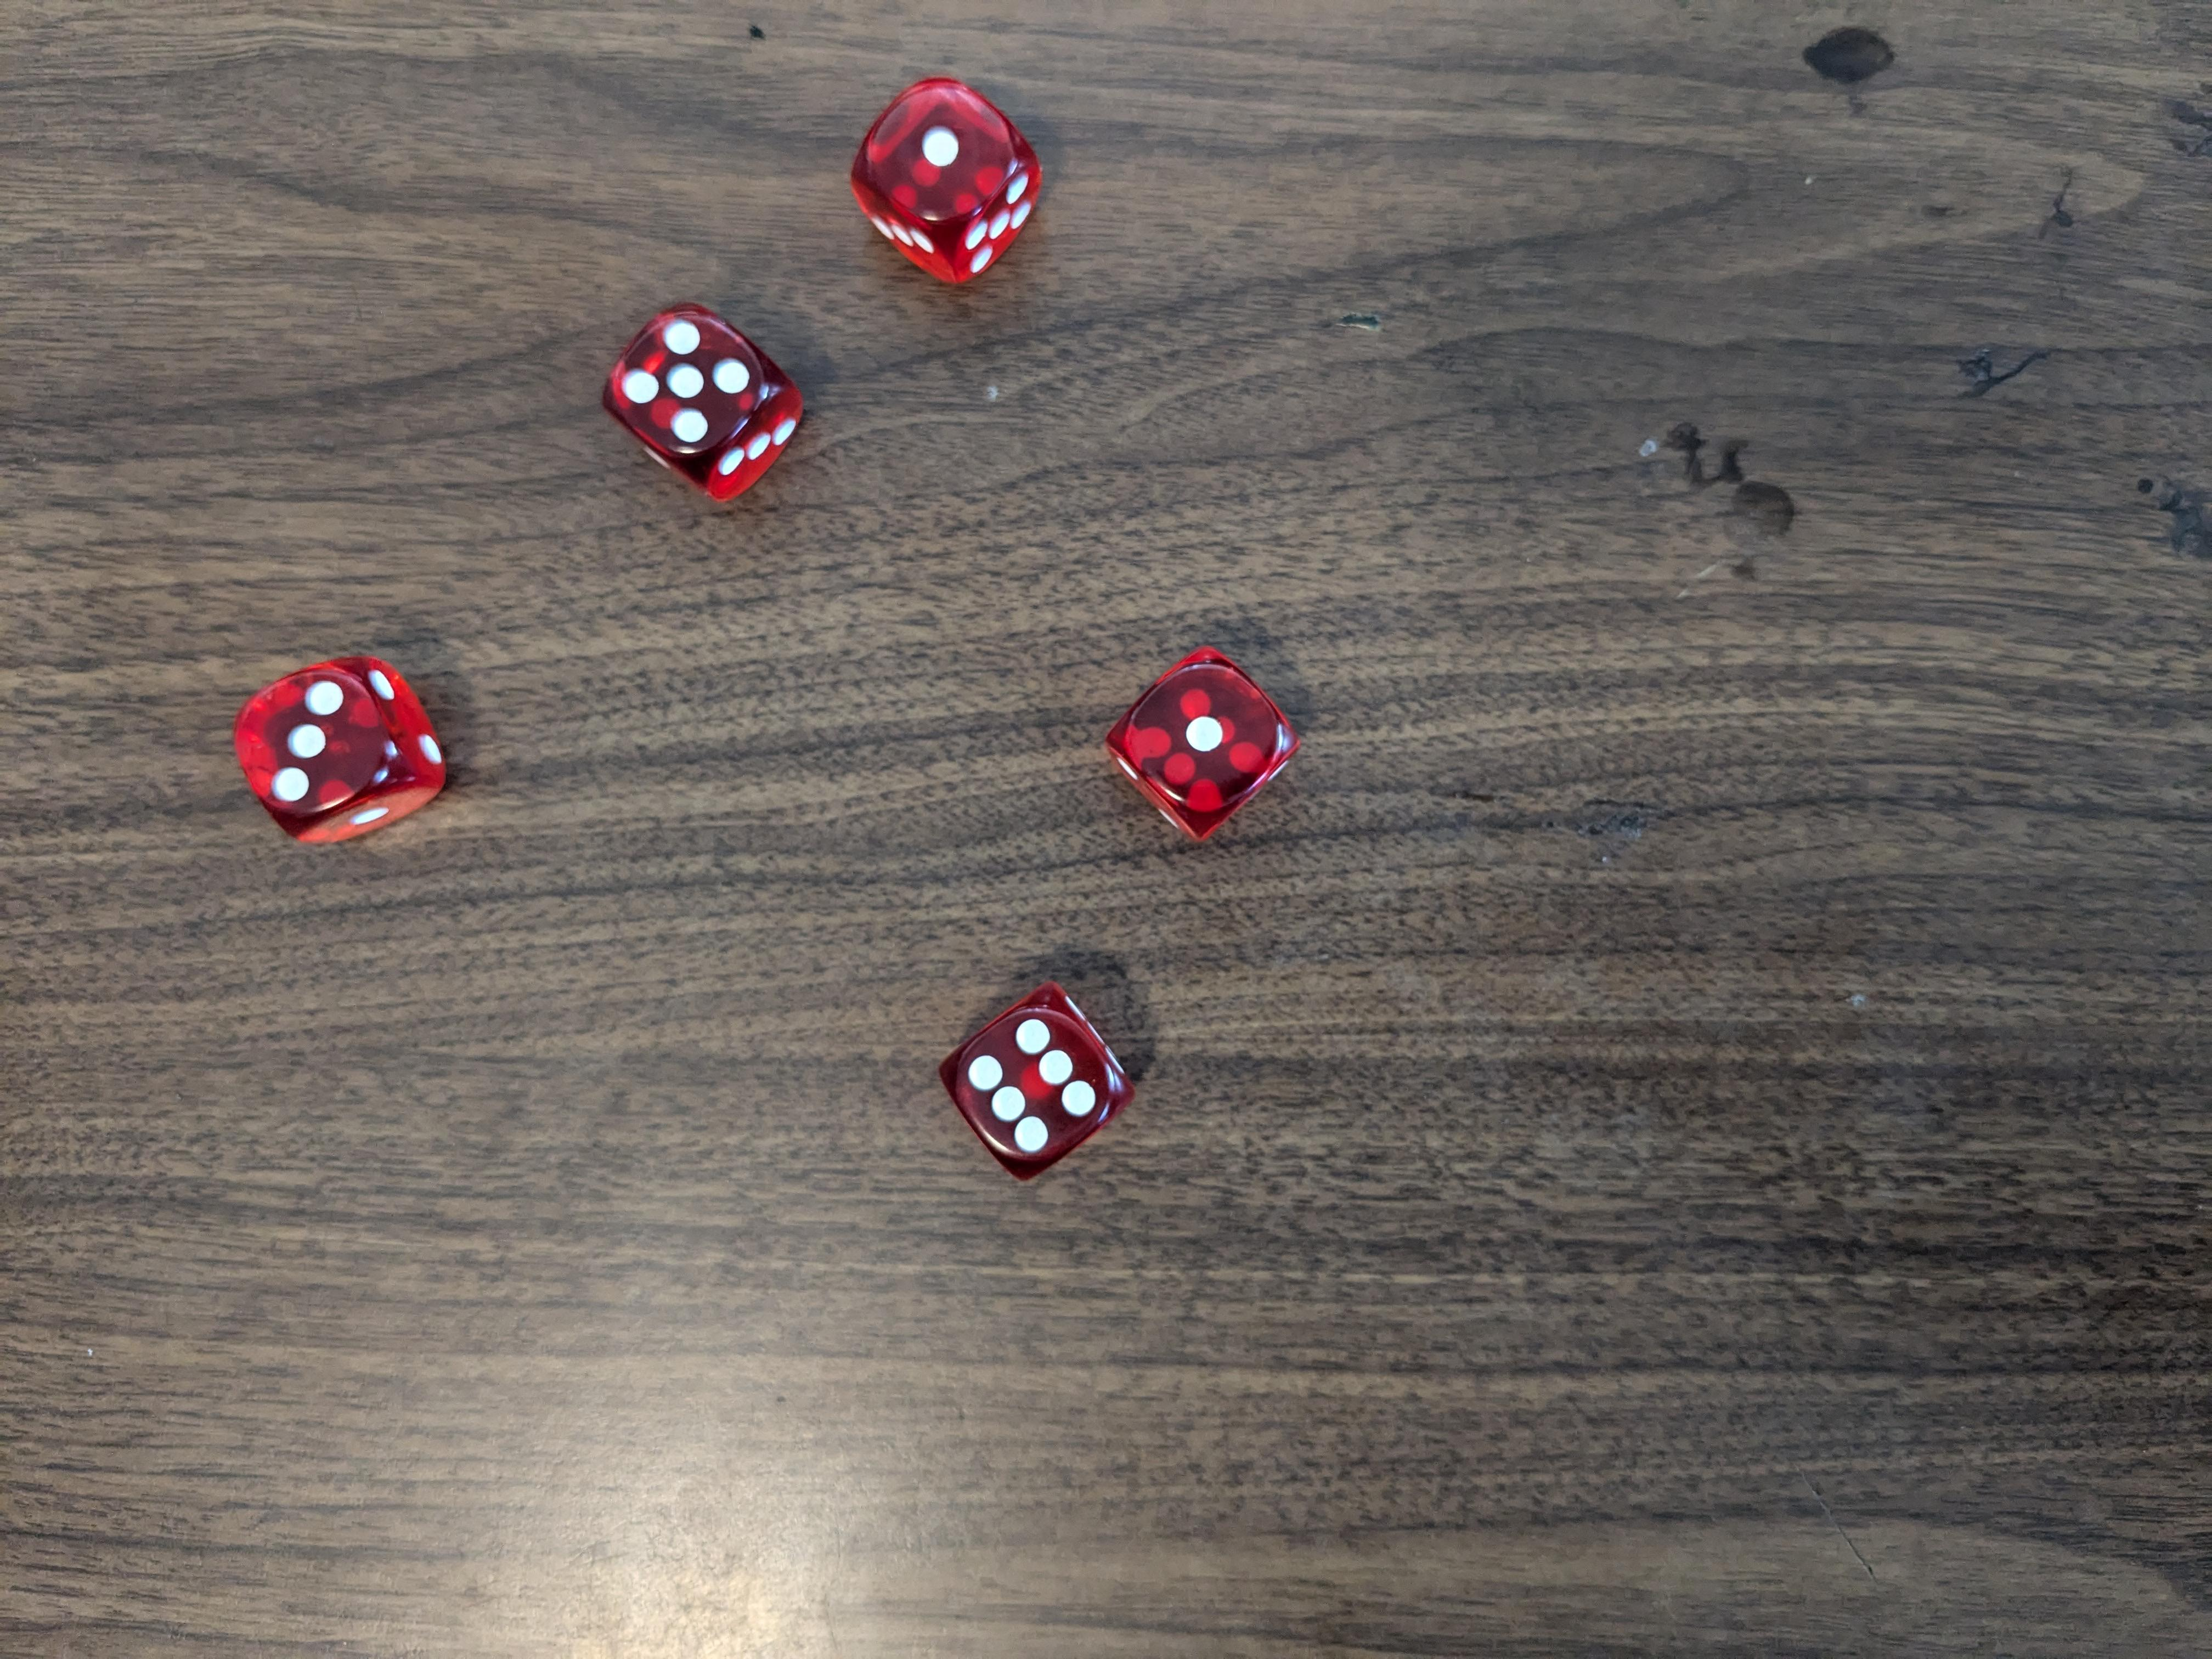five: (592, 298, 806, 509)
one: (848, 71, 1052, 291), (1099, 645, 1301, 845)
six: (934, 979, 1136, 1180)
three: (237, 652, 456, 843)
